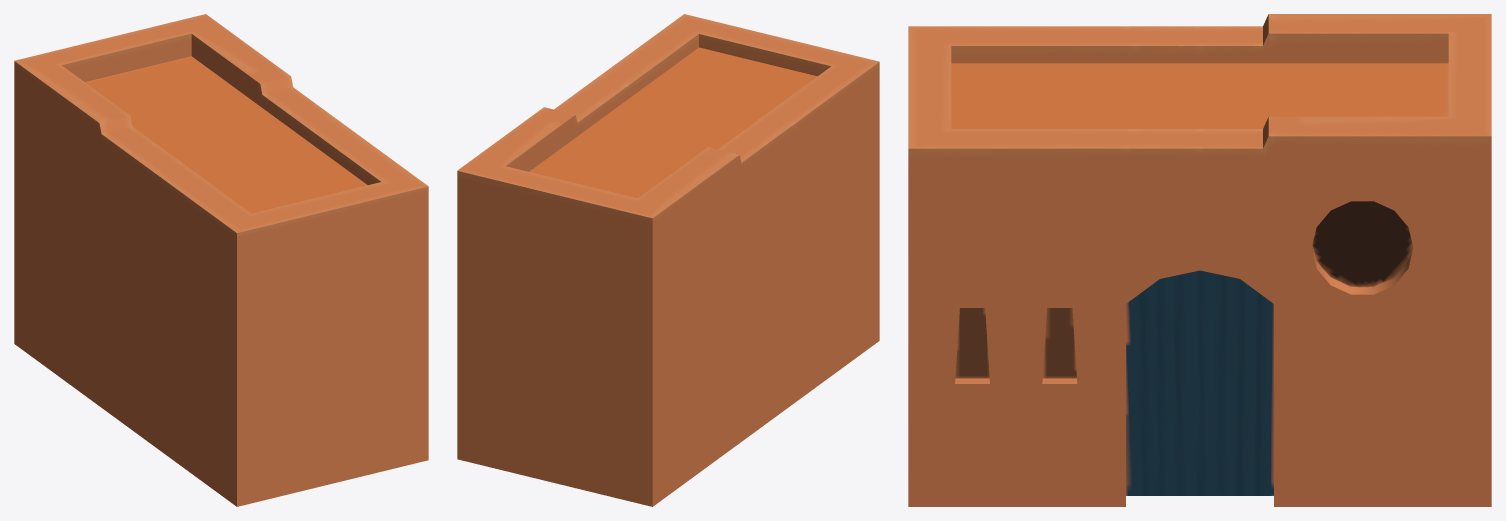
Rendered from House2.fbx.
3 views of the same model, side by side, from view 1: azimuth 30°, elevation 25°; view 2: azimuth 150°, elevation 25°; view 3: azimuth 270°, elevation 25° (orthographic). The views are drawn at different scales.
Parts seen in each view (by area): view 1: House2; view 2: House2; view 3: House2.
Part boxes in pixels (x1,y1,x2,y2): House2: (14,14,428,506); House2: (457,14,879,506); House2: (908,14,1491,506).
Bounding box in the file's own units: 449 × 633 × 903.
